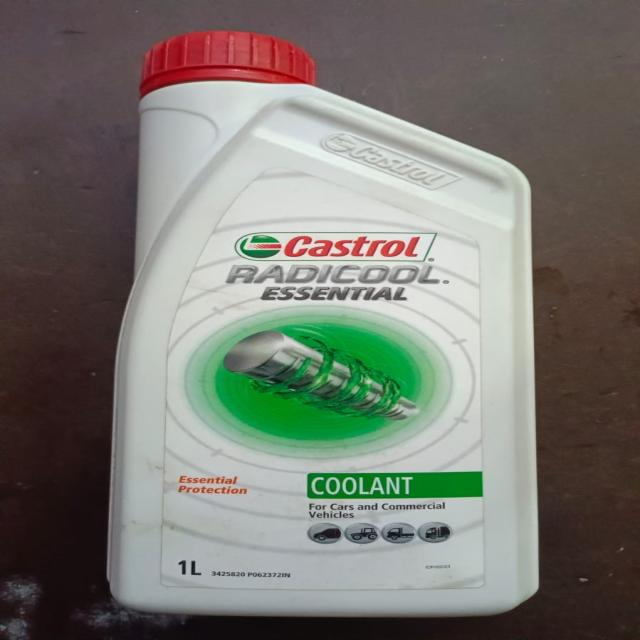coolant: (96, 26, 548, 614)
